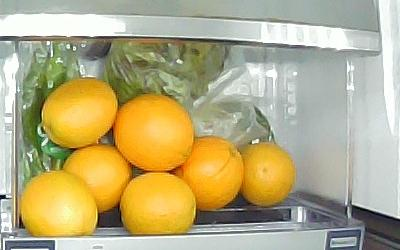orange: (112, 92, 194, 171), (169, 134, 244, 211), (40, 76, 118, 148), (20, 168, 97, 237), (61, 142, 132, 213), (119, 171, 196, 234), (235, 140, 295, 205)
